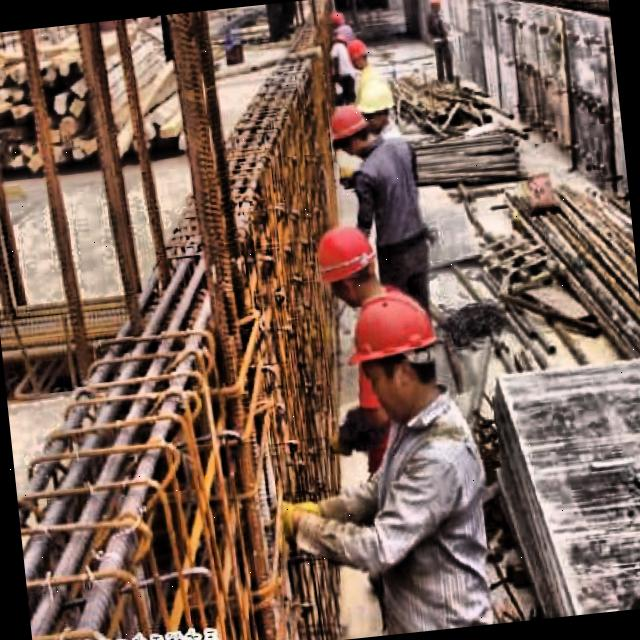helmet: (340, 276, 452, 426), (310, 217, 384, 318), (324, 95, 374, 157), (356, 73, 400, 139), (343, 34, 372, 76)
